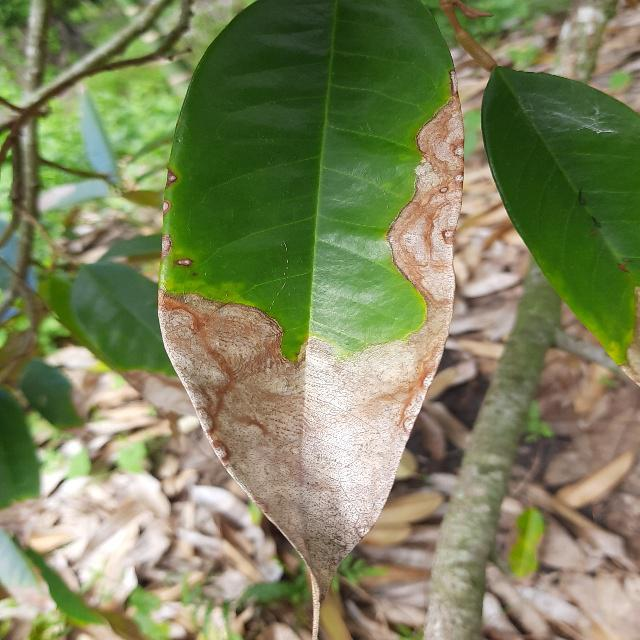Leaf Blight: (151, 0, 474, 639)
